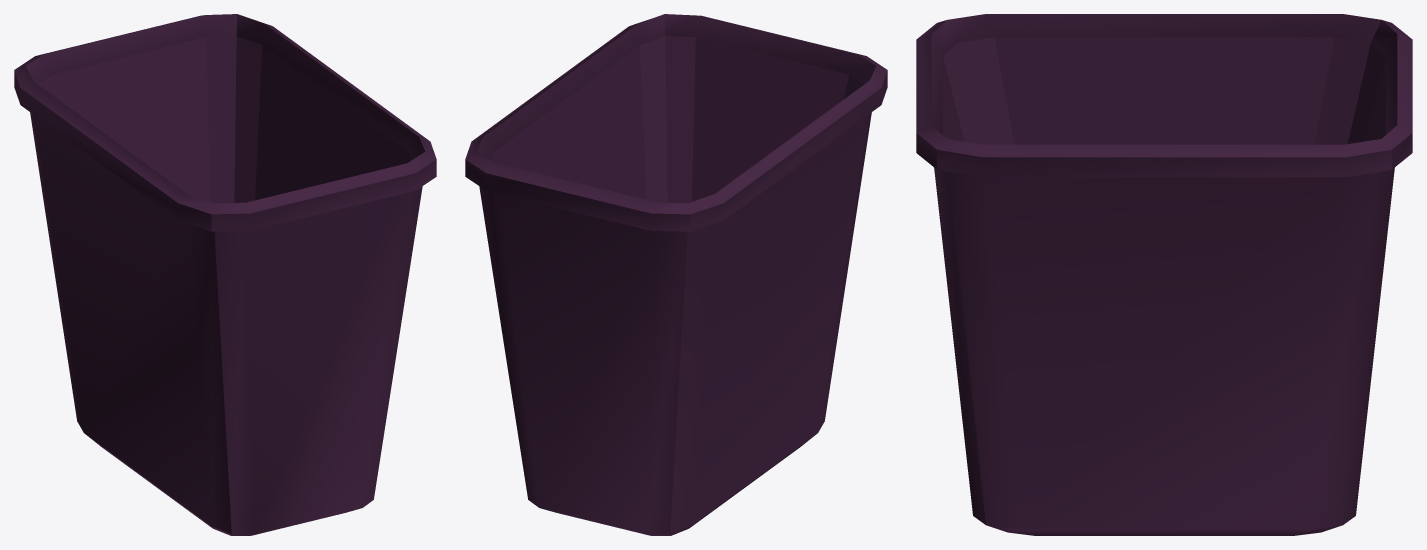
Rendered from closet.fbx.
The picture shows the model from 3 angles, left to right: view 1: azimuth 30°, elevation 25°; view 2: azimuth 150°, elevation 25°; view 3: azimuth 270°, elevation 25°; orthographic projection. The views are drawn at different scales.
Parts seen in each view (by area): view 1: geo_BoteBasura_01; view 2: geo_BoteBasura_01; view 3: geo_BoteBasura_01.
Part boxes in pixels (box(x1,y1,x2,y2)): geo_BoteBasura_01: box(14, 14, 436, 535); geo_BoteBasura_01: box(465, 14, 887, 535); geo_BoteBasura_01: box(916, 14, 1412, 535).
Size of the model in its own units: 47.33 by 64.93 by 69.9.
